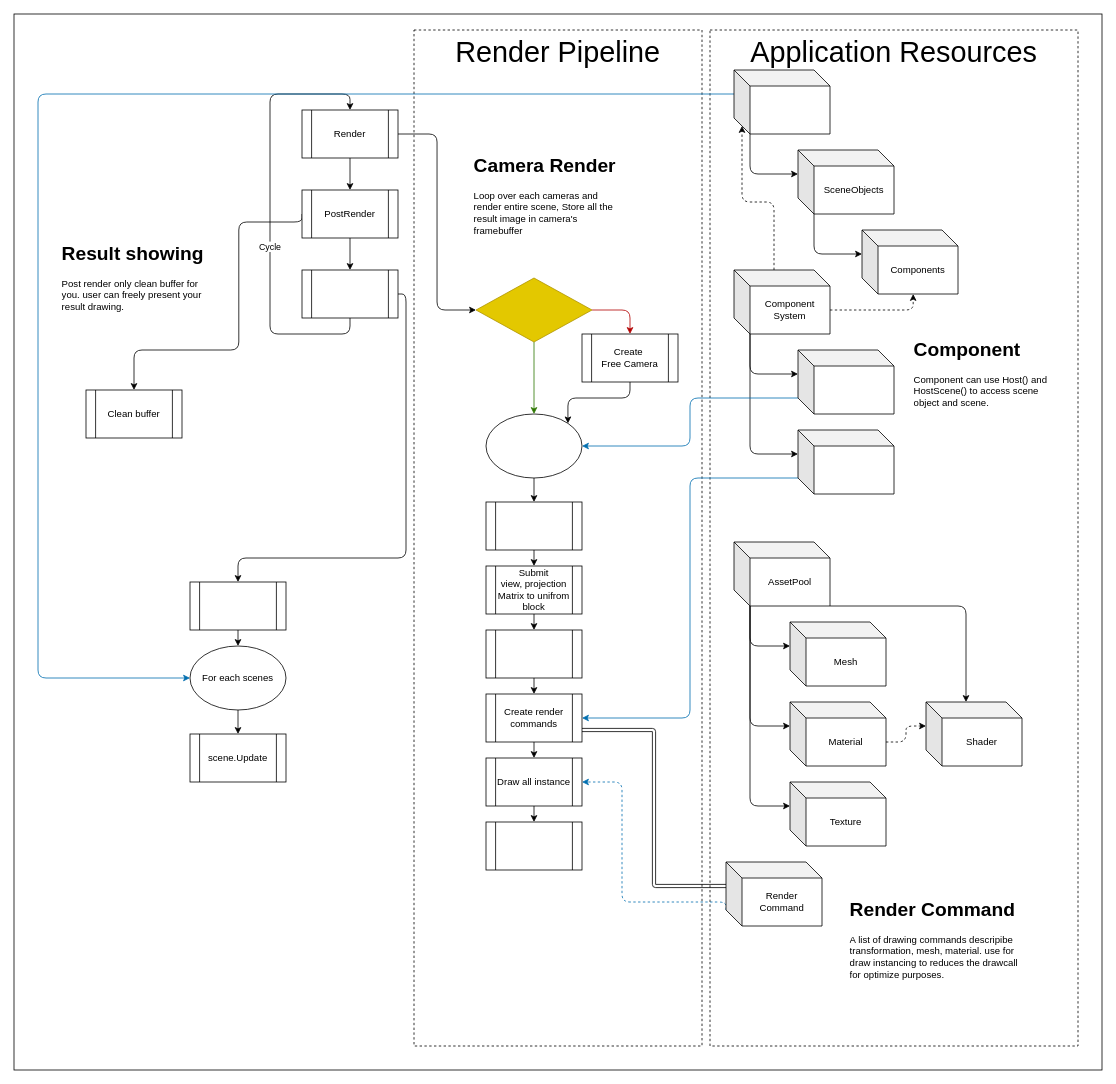
Some shapes in this 1116 by 1084 pixel diagram are drawn without their labels. Each missing label, with the centre of its shape:
Camera blit: pixel 533 845
Cameras: pixel 845 381
Check camera > 0: pixel 533 309
Clean Buffer Viewport adjust: pixel 533 525
Delta count FPS count Camera update: pixel 237 605
For each camera: pixel 533 445
MeshRenders: pixel 845 461
Scenes: pixel 781 101
Submit app data to utility uniform block: pixel 533 653
Update: pixel 349 293
